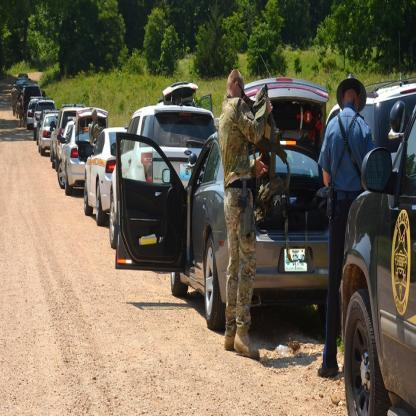Car: (11, 30, 416, 416)
